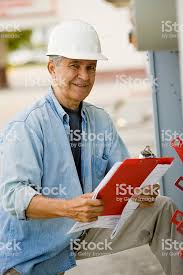Person_wearing_helmet: (41, 14, 110, 76)
